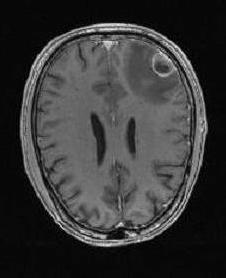Normal_Brain: (1, 1, 226, 278)
